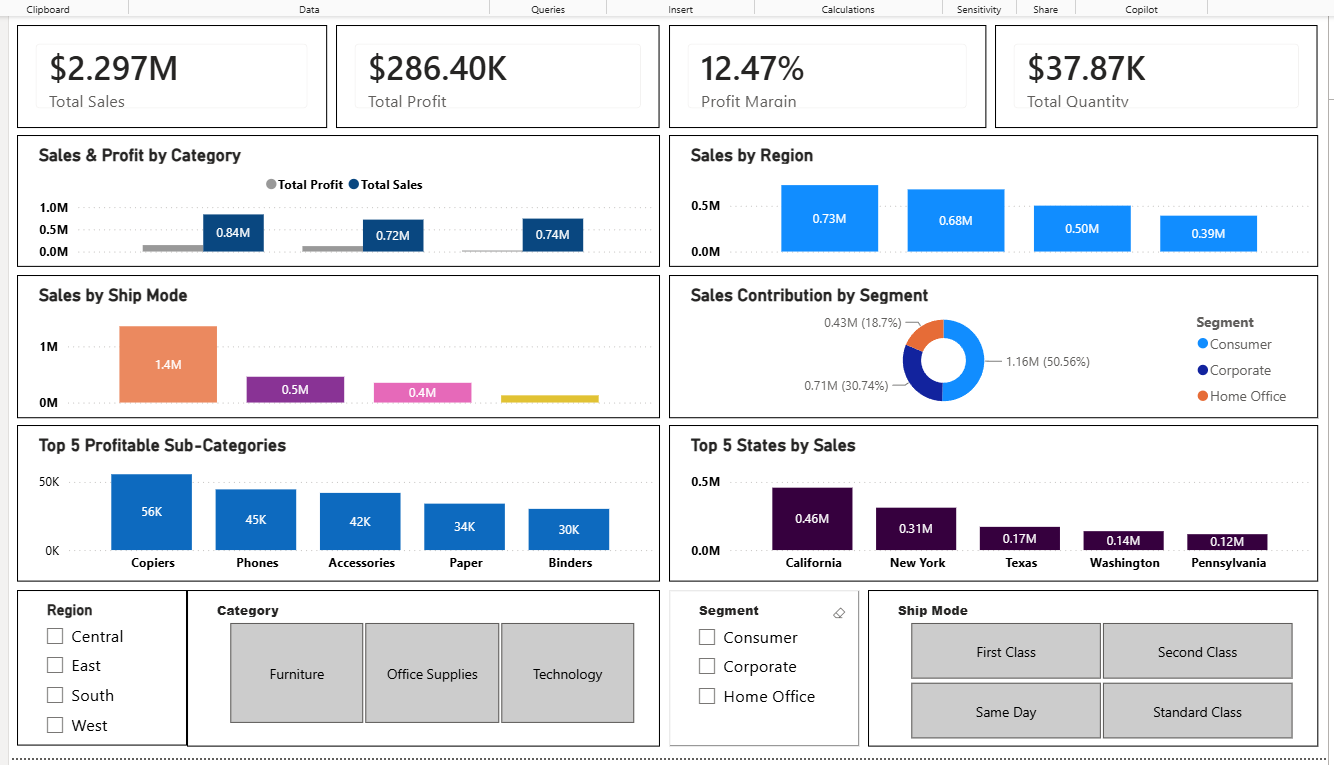

The page's visual inventory and layout, read from the dashboard file:
{"tool":"powerbi","page":{"name":"Page 1","canvas":[1280,720],"ordinal":0},"visuals":[{"type":"cardVisual","fields":{"Data":["SampleSuperstore.Total Sales"]},"box":[7.8,8.7,300.8,100],"z":0},{"type":"cardVisual","fields":{"Data":["SampleSuperstore.Total Quantity"]},"box":[956.8,8.7,313.4,100],"z":1000},{"type":"cardVisual","fields":{"Data":["SampleSuperstore.Total Profit"]},"box":[317.3,8.7,314.4,100],"z":2000},{"type":"cardVisual","fields":{"Data":["SampleSuperstore.Profit Margin"]},"box":[640.5,8.7,307.6,100],"z":3000},{"type":"clusteredColumnChart","title":"Sales & Profit by Category","fields":{"Category":["SampleSuperstore.Category"],"Y":["SampleSuperstore.Total Profit","SampleSuperstore.Total Sales"]},"box":[7.8,115.5,624,128.1],"z":4000},{"type":"columnChart","title":"Sales by Region","fields":{"Category":["SampleSuperstore.Region"],"Y":["SampleSuperstore.Total Sales"]},"box":[640.5,115.5,629.8,128.1],"z":5000},{"type":"donutChart","title":"Sales Contribution by Segment","fields":{"Category":["SampleSuperstore.Segment"],"Y":["SampleSuperstore.Total Sales"]},"box":[640.5,251.3,629.8,138.8],"z":6000},{"type":"columnChart","title":"Sales by Ship Mode","fields":{"Category":["SampleSuperstore.Ship Mode"],"Y":["SampleSuperstore.Total Sales"]},"box":[7.8,251.3,624,138.8],"z":7000},{"type":"columnChart","title":"Top 5 States by Sales","fields":{"Category":["SampleSuperstore.State"],"Y":["SampleSuperstore.Total Sales"]},"box":[640.5,396.9,629.8,152.4],"z":8000},{"type":"columnChart","title":"Top 5 Profitable Sub-Categories","fields":{"Category":["SampleSuperstore.Sub-Category"],"Y":["SampleSuperstore.Total Profit"]},"box":[7.8,396.9,624,152.4],"z":9000},{"type":"slicer","fields":{"Values":["SampleSuperstore.Region"]},"box":[7.8,557,165,151.4],"z":10000},{"type":"slicer","fields":{"Values":["SampleSuperstore.Category"]},"box":[172.7,557,459,152.4],"z":11000},{"type":"slicer","fields":{"Values":["SampleSuperstore.Segment"]},"box":[640.5,557,185.4,152.4],"z":12000},{"type":"slicer","fields":{"Values":["SampleSuperstore.Ship Mode"]},"box":[833.6,557,436.7,152.4],"z":13000}]}

Visuals, with their boxes in screenshot pixels (x1, y1, x2, y2):
cardVisual - SampleSuperstore.Total Sales: (15, 23, 324, 126)
cardVisual - SampleSuperstore.Total Quantity: (990, 23, 1312, 126)
cardVisual - SampleSuperstore.Total Profit: (333, 23, 656, 126)
cardVisual - SampleSuperstore.Profit Margin: (665, 23, 981, 126)
"Sales & Profit by Category" clusteredColumnChart: (15, 133, 656, 264)
"Sales by Region" columnChart: (665, 133, 1313, 264)
"Sales Contribution by Segment" donutChart: (665, 272, 1313, 415)
"Sales by Ship Mode" columnChart: (15, 272, 656, 415)
"Top 5 States by Sales" columnChart: (665, 422, 1313, 578)
"Top 5 Profitable Sub-Categories" columnChart: (15, 422, 656, 578)
slicer - SampleSuperstore.Region: (15, 586, 185, 742)
slicer - SampleSuperstore.Category: (184, 586, 656, 743)
slicer - SampleSuperstore.Segment: (665, 586, 856, 743)
slicer - SampleSuperstore.Ship Mode: (864, 586, 1313, 743)
